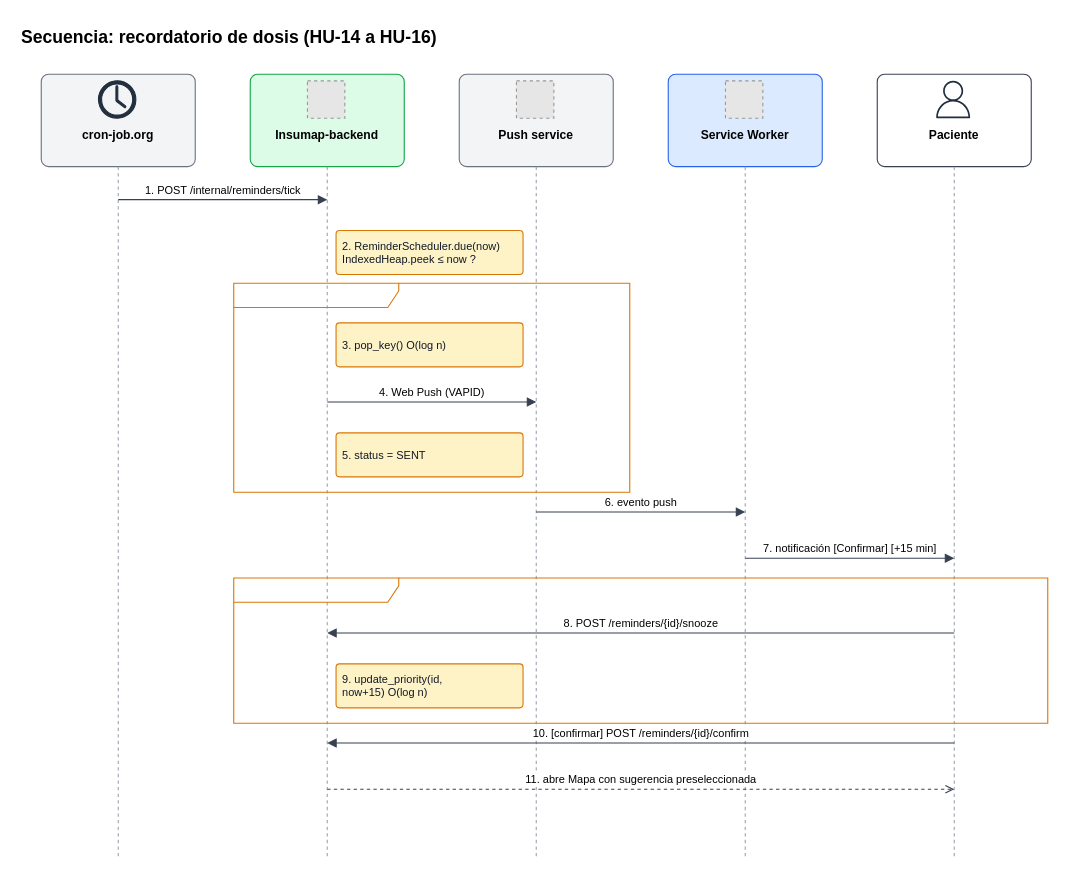
Image size: 1067x878. Some labels were removed from this diagram. Grey dashed boxes stand in for pictures. Each missing label, with the box of its shape:
alt [posponer]: (233, 577, 1048, 723)
loop [tope vencido]: (233, 282, 630, 492)
